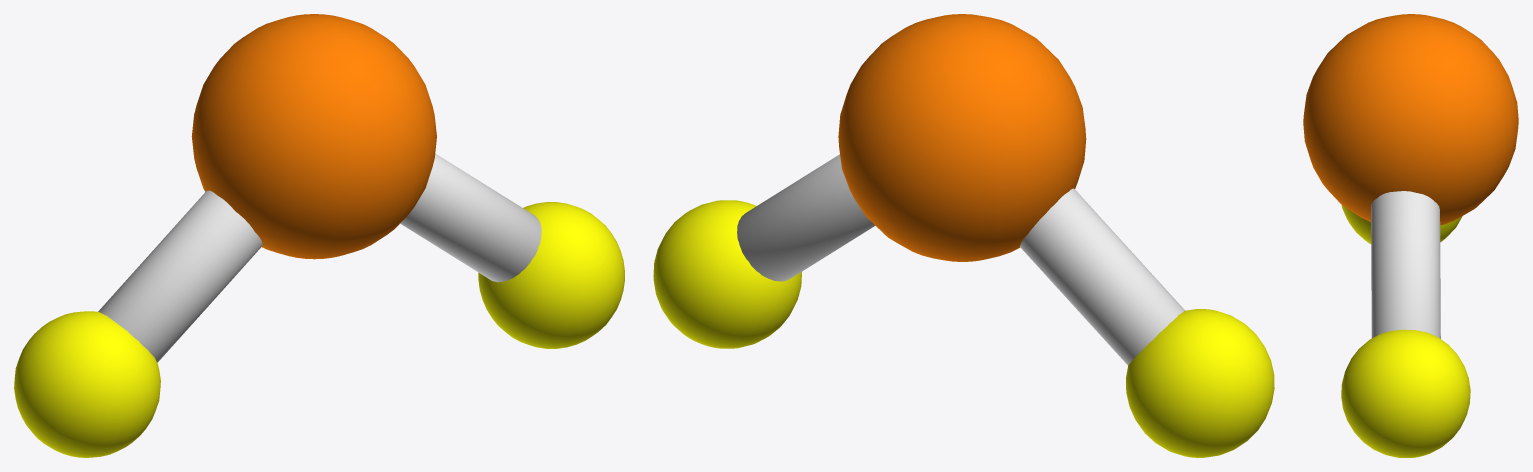
Rendered from MgCl2.fbx.
The picture shows the model from 3 angles, left to right: view 1: azimuth 30°, elevation 25°; view 2: azimuth 150°, elevation 25°; view 3: azimuth 270°, elevation 25°; orthographic projection. The views are drawn at different scales.
Parts seen in each view (by area): view 1: 구체, 구체.004, 구체.003, 실린더, 실린더.003; view 2: 구체, 구체.004, 구체.003, 실린더, 실린더.003; view 3: 구체, 구체.003, 실린더.003, 구체.004.
Boxes of the visible parts, x1,y1,x2,y2 form: 구체: (191, 14, 436, 259); 구체.004: (14, 311, 160, 457); 구체.003: (478, 202, 624, 348); 실린더: (98, 190, 262, 362); 실린더.003: (400, 153, 541, 282); 구체: (838, 14, 1086, 261); 구체.004: (1126, 309, 1274, 457); 구체.003: (653, 200, 801, 348); 실린더: (1019, 188, 1184, 365); 실린더.003: (737, 154, 875, 281); 구체: (1303, 14, 1518, 225); 구체.003: (1341, 329, 1470, 457); 실린더.003: (1371, 191, 1440, 338); 구체.004: (1341, 204, 1462, 243).
Size of the model in its own units: 697 by 418 by 249.
